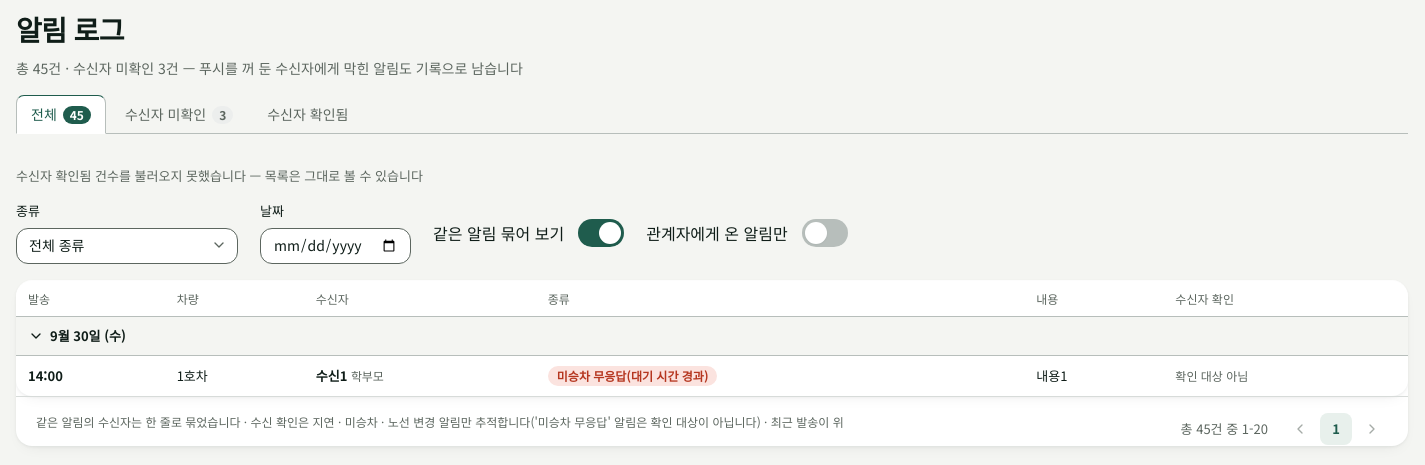
it: NotificationList — 수신자 확인됨 탭 건수(M-W4 · Ruling 850) › 건수를 세지 못하면 그 사실을 한 줄로 알리고, 센 뒤에는 안내가 없다
This screenshot has width=1425, height=465.
Expected: the text "내용1" is shown, top-left (1024, 356), bottom-right (1163, 396)
Expected: the text "수신자 확인됨 건수를 불러오지 못했습니다 — 목록은 그대로 볼 수 있습니다" is shown, top-left (16, 166), bottom-right (423, 185)
필터를 바꿔 다시 세면 — 이번엔 센다 — 안내가 사라지고 건수가 보인다
Click the checkbox labelled "관계자에게 온 알림만" at (747,233), box top-left (646, 219), bottom-right (848, 247)
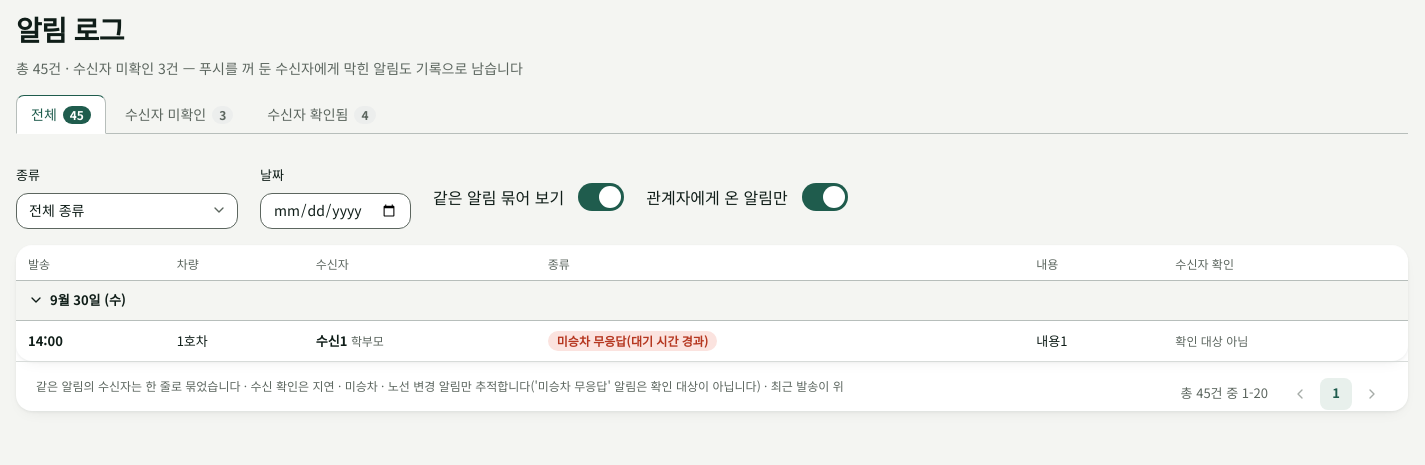
Expected: the tab "수신자 확인됨 4" is shown, top-left (252, 95), bottom-right (390, 134)
Expected: the text "확인됨 건수를 불러오지 못했습니다" is gone
